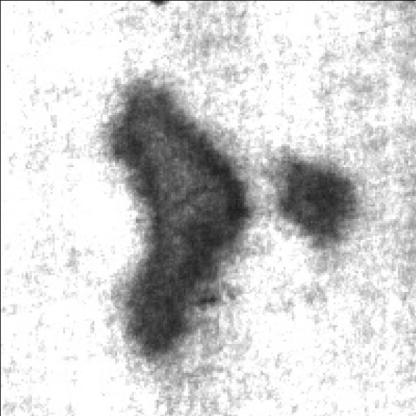patches: (110, 79, 256, 362), (274, 164, 364, 252)
